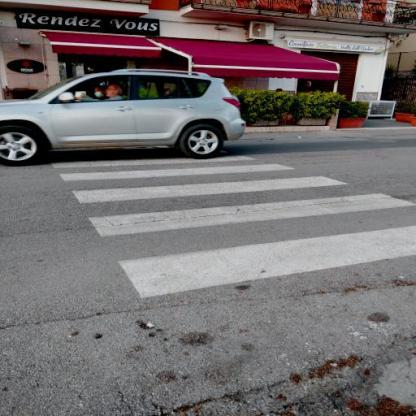crosswalk: (53, 163, 356, 207)
